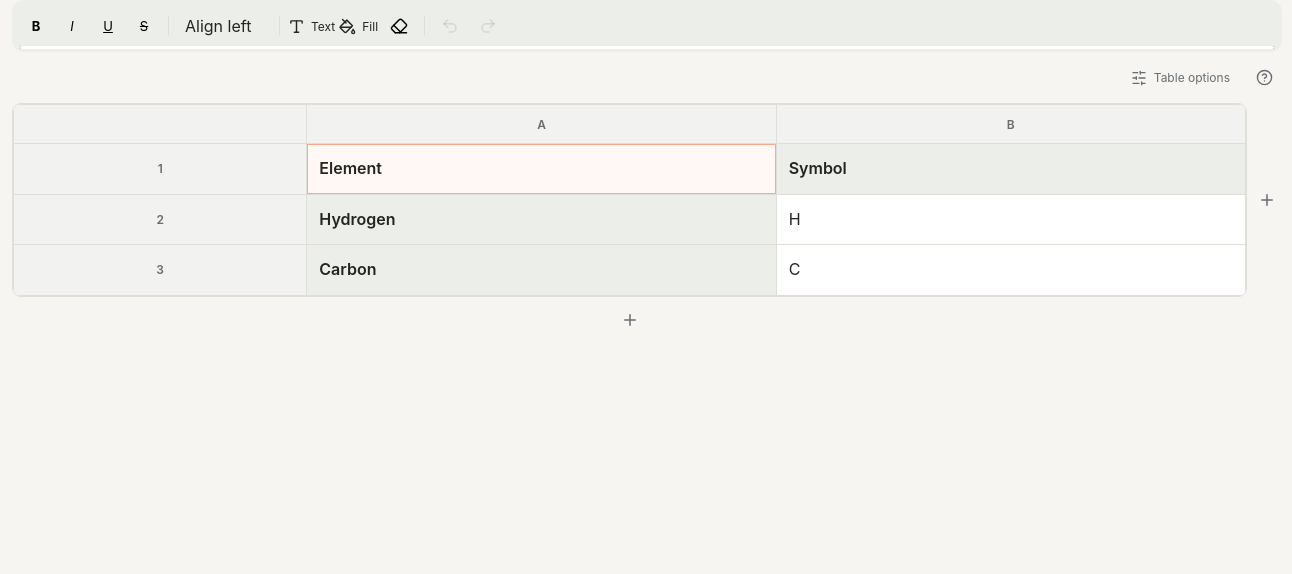
Test: provides keyboard menu navigation and Escape dismissal without changing data
The width and height of the screenshot is (1292, 574).
Right-click the field named "Row 2, column 2" at coordinates (1011, 219), box [777,195,1245,244]
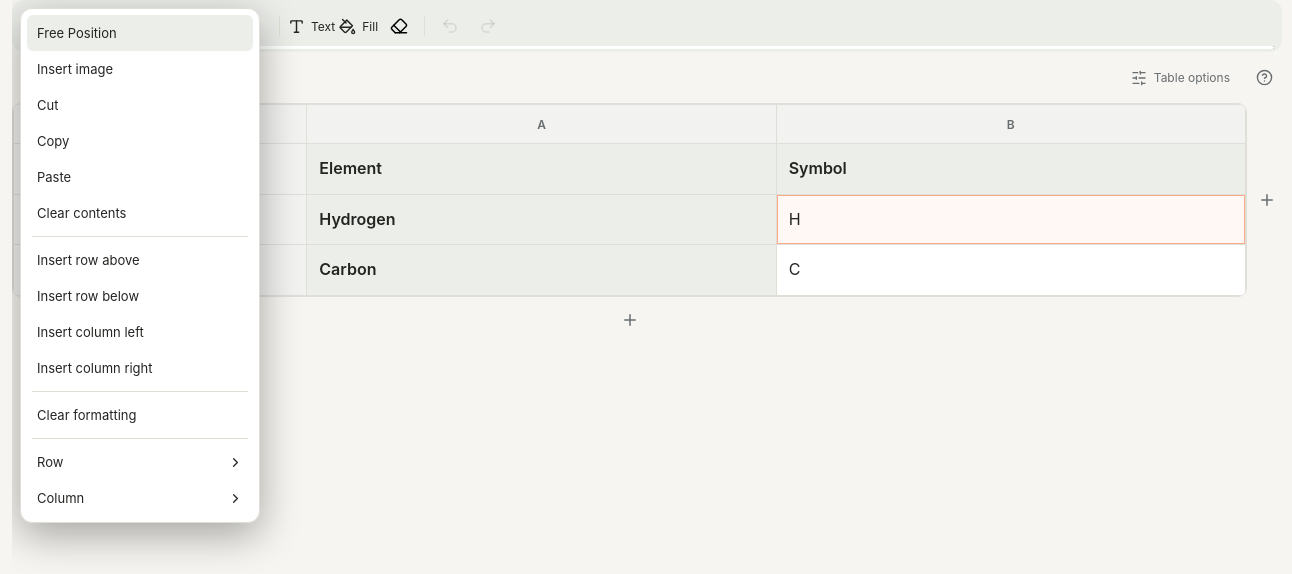
Press End in the menu, box [20,8,260,523]
Check: the menu item "Column" is shown, box [27,480,253,516]
Press ArrowRight in the menu, box [20,8,260,523]
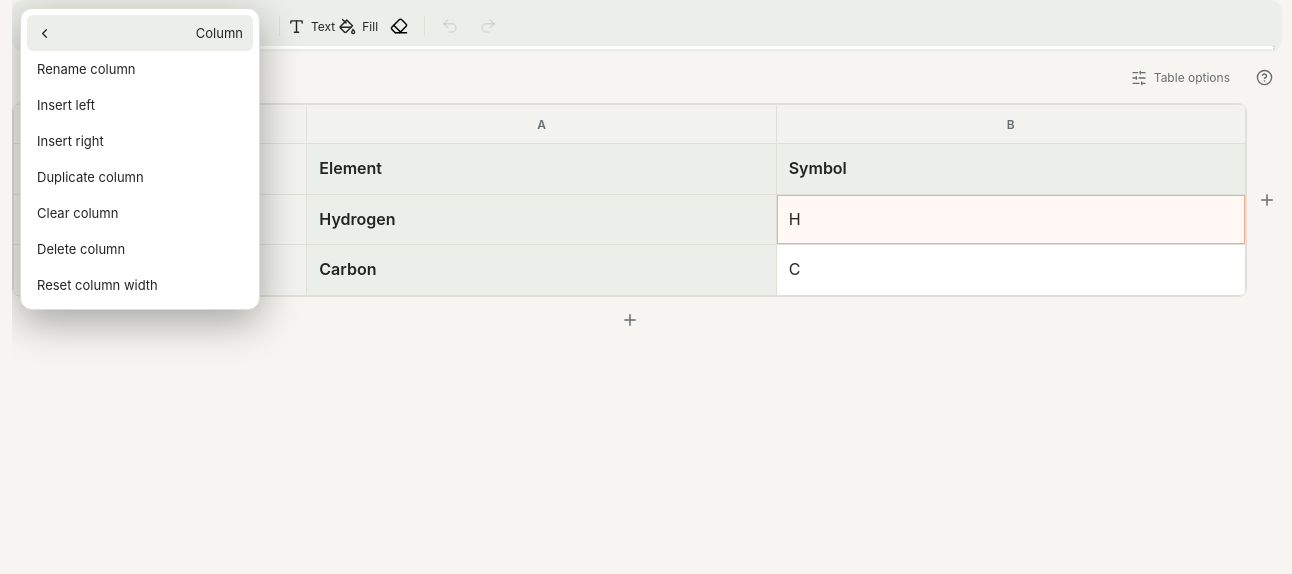
Check: the menu "Column" is shown
Press Escape in the menu, box [20,8,260,310]
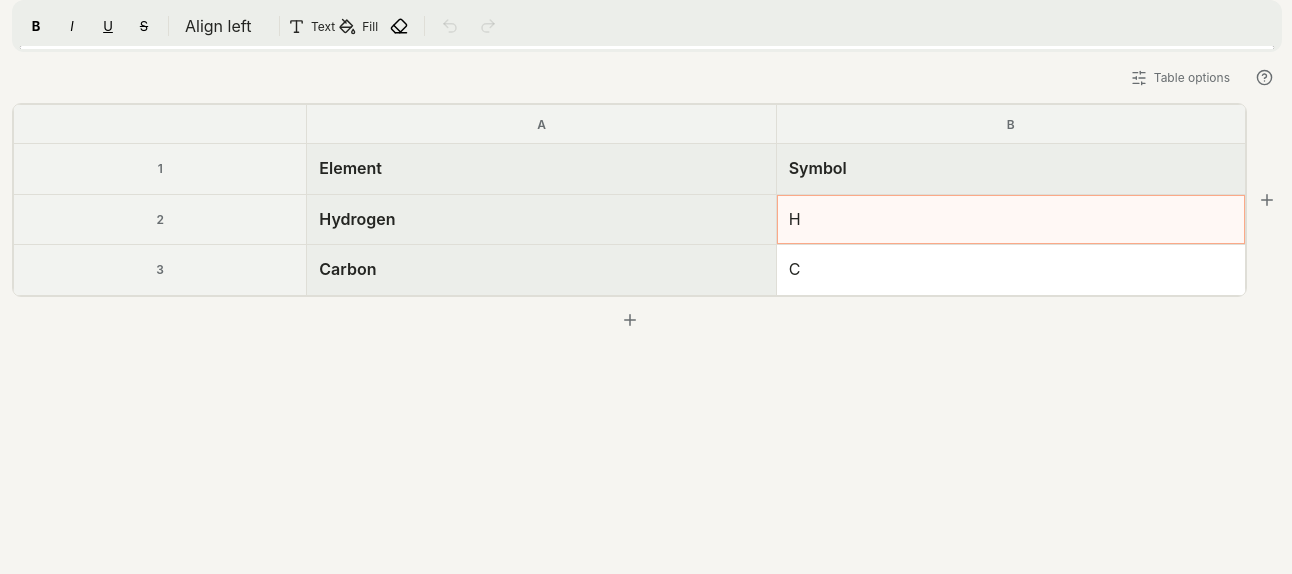
Check: the field named "Row 2, column 2" holds "H", box [777,195,1245,244]
Check: the menu is gone
Click the heading "Table options" at coordinates (1180, 78), box [1131,70,1230,86]
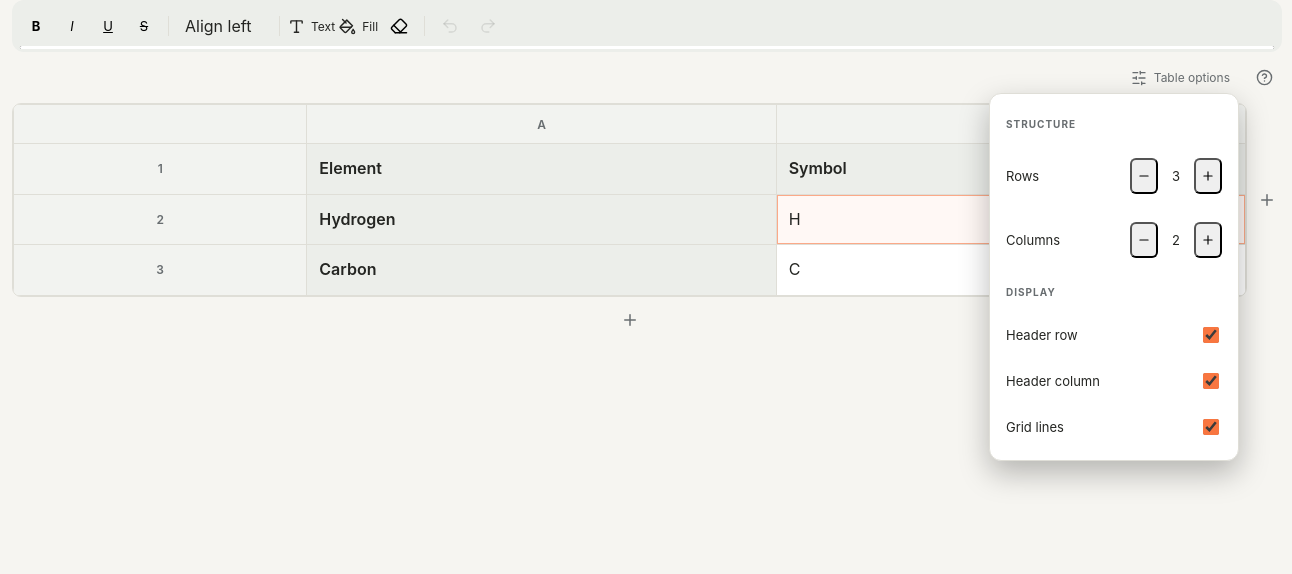
Check: the button named "Increase rows" is shown, box [1194,158,1222,194]
